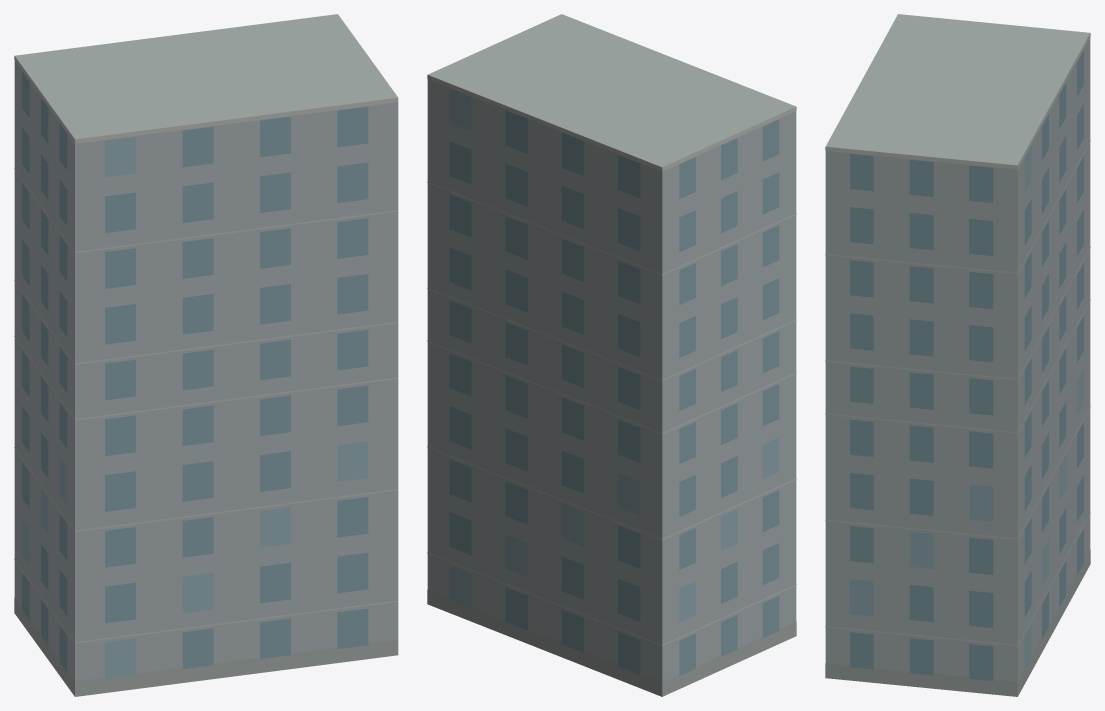
Rendered from residential-1f10631a-7670-4524-99d6-78edbce9ba84.glb.
3 views of the same model, side by side, from view 1: azimuth 30°, elevation 25°; view 2: azimuth 150°, elevation 25°; view 3: azimuth 270°, elevation 25° (orthographic). The views are drawn at different scales.
Visible parts, largest first — view 1: residential-1f10631a-7670-4524-99d6-78edbce9ba84.tmp; view 2: residential-1f10631a-7670-4524-99d6-78edbce9ba84.tmp; view 3: residential-1f10631a-7670-4524-99d6-78edbce9ba84.tmp.
Boxes of the visible parts, x1,y1,x2,y2 form: residential-1f10631a-7670-4524-99d6-78edbce9ba84.tmp: (14, 14, 398, 696); residential-1f10631a-7670-4524-99d6-78edbce9ba84.tmp: (427, 14, 796, 696); residential-1f10631a-7670-4524-99d6-78edbce9ba84.tmp: (825, 14, 1090, 696).
Size of the model in its own units: 18.67 by 30.5 by 13.81.
